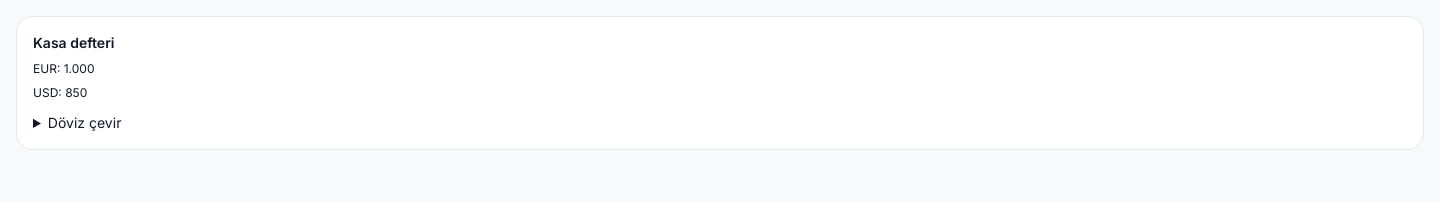
Test: CashLedgerPanel görünümü › Döviz çevir formu açılır ve mevcut alanları korunur
The image size is (1440, 203).
Click the heading "Döviz çevir" at (85, 122), box [48,114,121,131]
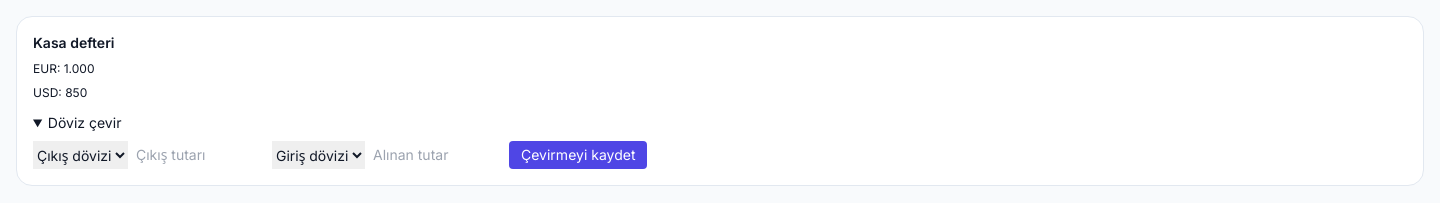
Expected: the dropdown named "Çıkış dövizi" is shown, [33,141,128,169]
Expected: the number field labelled "Çıkış tutarı" is shown, [136,141,264,169]
Expected: the dropdown named "Giriş dövizi" is shown, [272,141,365,169]
